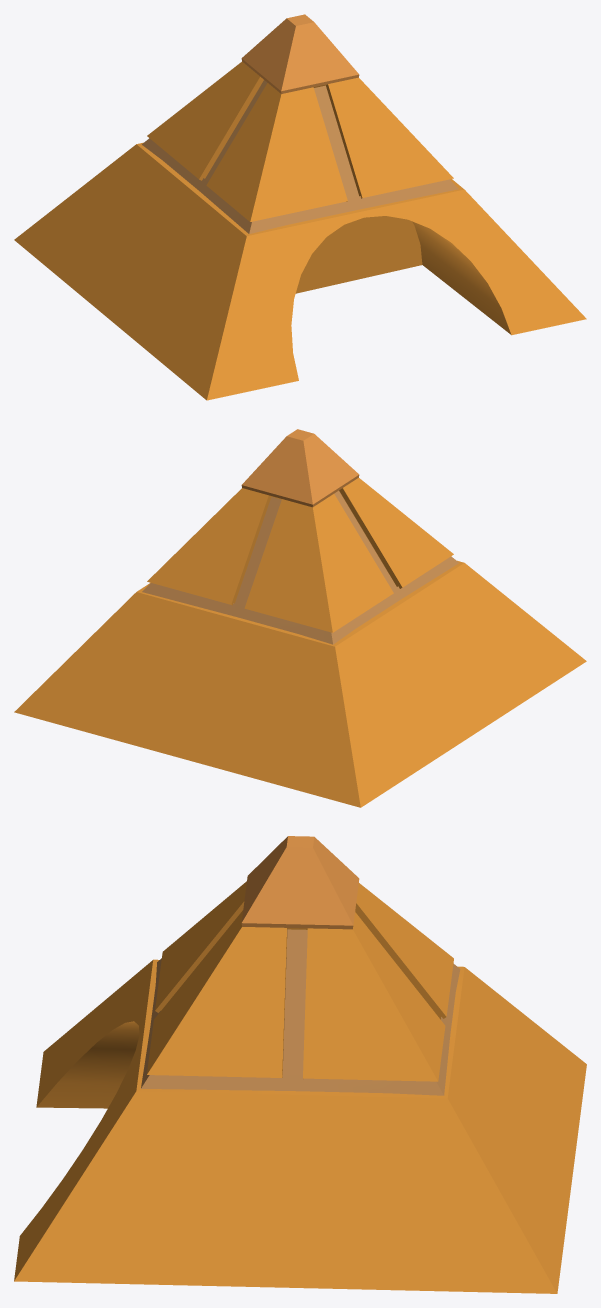
3 renders of one model, top to bottom at view 1: azimuth 30°, elevation 25°; view 2: azimuth 150°, elevation 25°; view 3: azimuth 270°, elevation 25°, orthographic. The views are drawn at different scales.
Visible parts, largest first — view 1: 678-_; view 2: 678-_; view 3: 678-_.
Boxes of the visible parts, <box> form: 678-_: <box>14,14,586,400</box>; 678-_: <box>14,429,586,807</box>; 678-_: <box>14,836,586,1293</box>.
Size of the model in its own units: 1.48 by 0.9447 by 1.48.
